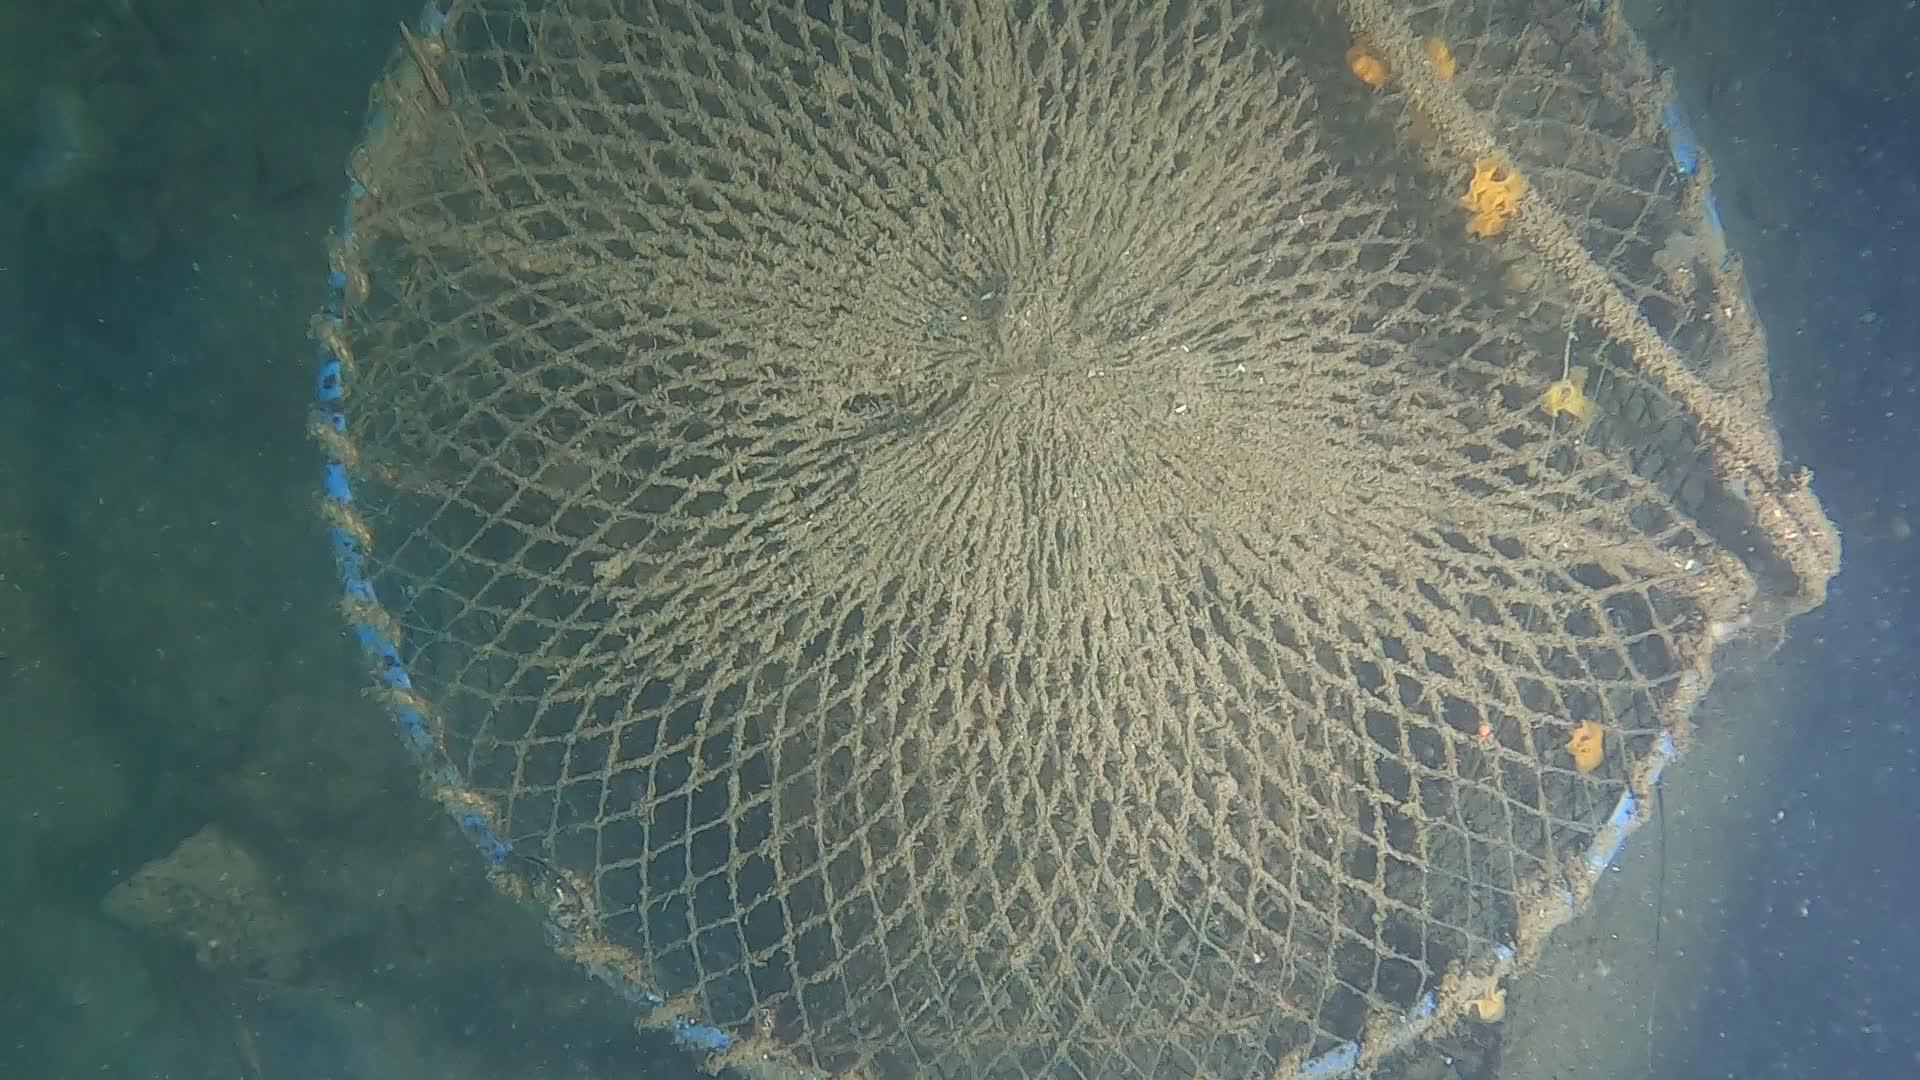circular fish trap: (307, 0, 1788, 1080)
